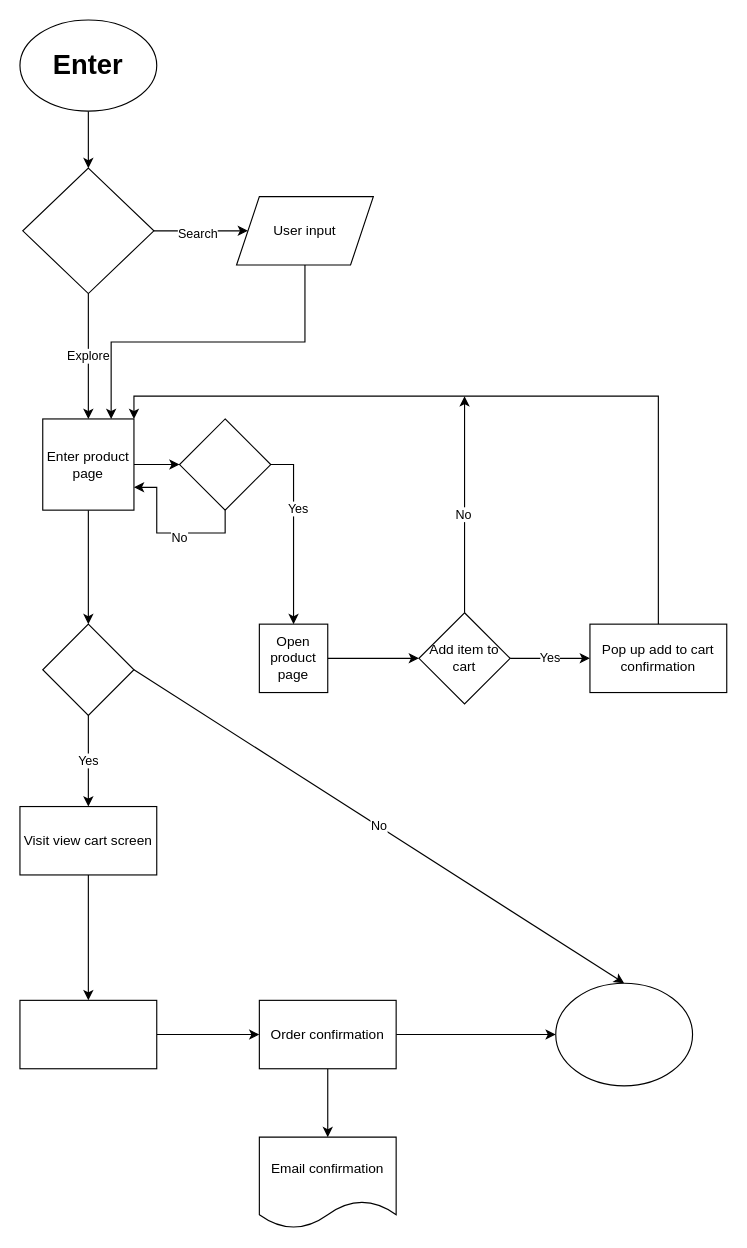
Some shapes in this 747 by 1248 pixel diagram are drawn without their labels. The box of each missing label's shape, as (x1, y1, x2, y2) in pixels:
Checkout?: (42, 623, 134, 715)
Leave: (555, 982, 693, 1086)
Search/Explore product: (22, 167, 154, 294)
View a specific product: (178, 418, 271, 510)
Visit view payment screen: (19, 999, 157, 1069)
